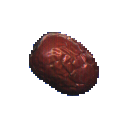gd: (22, 24, 112, 116)
